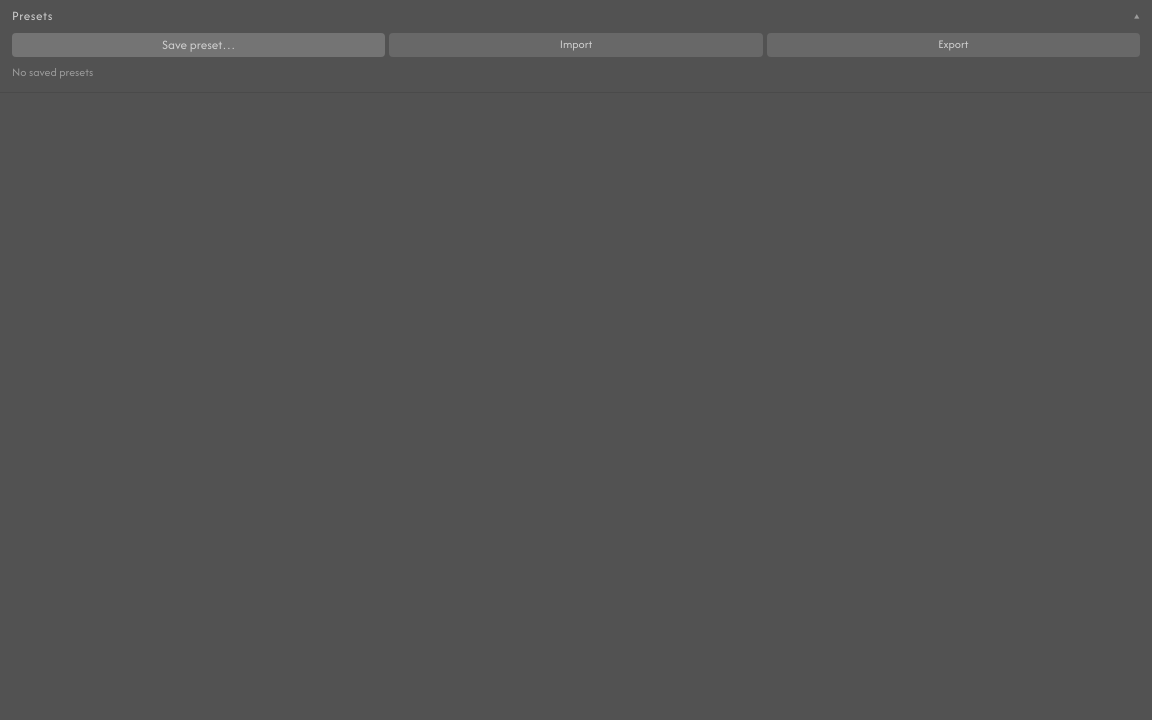
PresetsPanel import feedback › explains a file type no extension imports and opens the store on Presets
The image size is (1152, 720).
Click the button "Import". click: (576, 45)
box: x1=389 y1=32 x2=763 y2=57
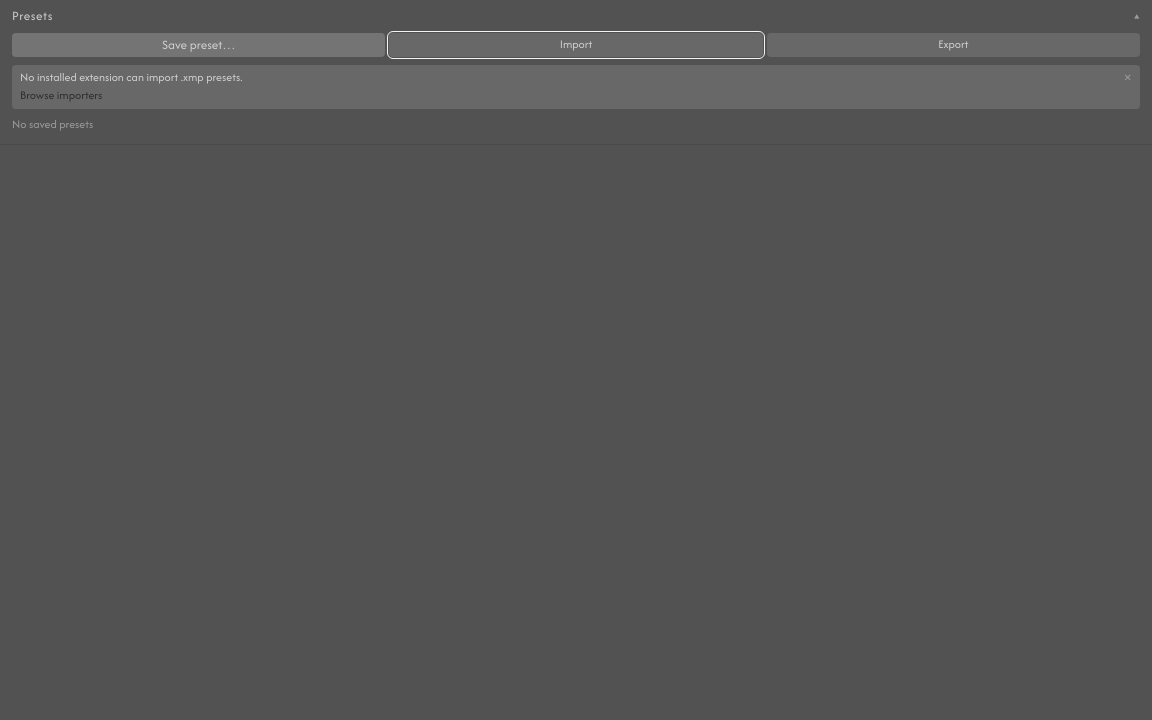
Result: the text "No installed extension can import .xmp presets." is shown at x1=20 y1=69 x2=242 y2=85
Click the button "Browse importers". click: (61, 96)
box: x1=20 y1=89 x2=102 y2=103
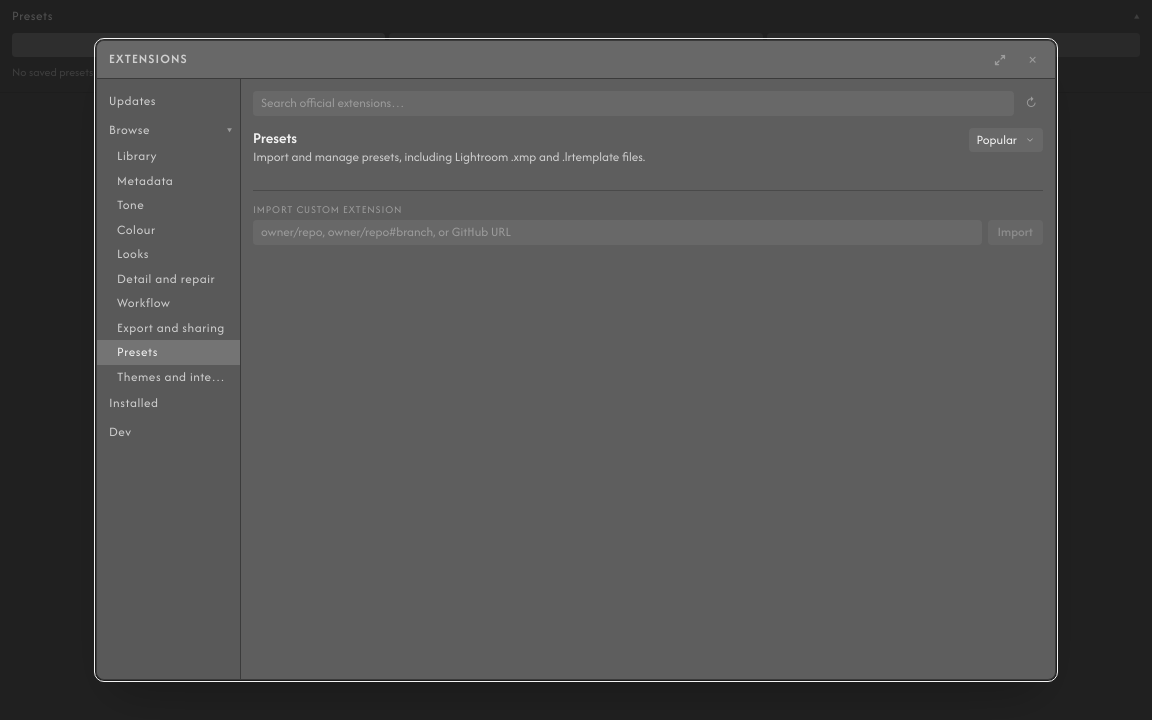
Result: the heading "Presets" is shown at x1=253 y1=126 x2=297 y2=148
